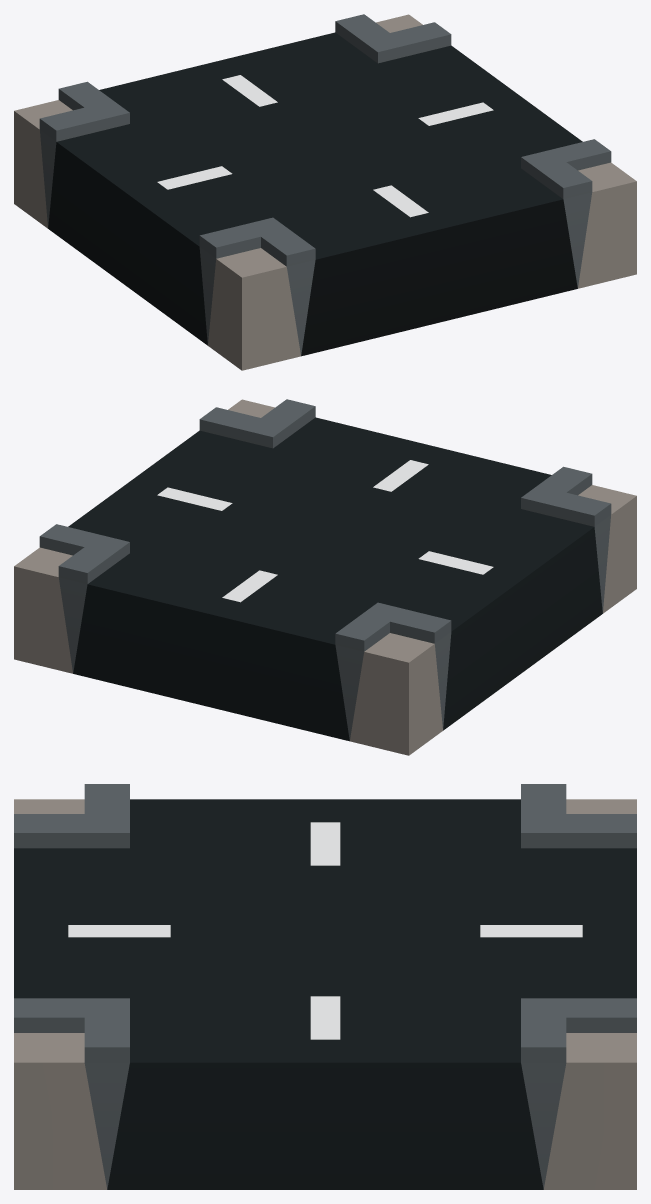
Rendered from CARRETERA 4.fbx.
3 views of the same model, one above another, from view 1: azimuth 30°, elevation 25°; view 2: azimuth 150°, elevation 25°; view 3: azimuth 270°, elevation 25° (orthographic). The views are drawn at different scales.
Parts seen in each view (by area): view 1: cuatro.001; view 2: cuatro.001; view 3: cuatro.001.
Part boxes in pixels (<box>): cuatro.001: <box>14,14,636,370</box>; cuatro.001: <box>14,399,636,755</box>; cuatro.001: <box>14,784,636,1189</box>.
Size of the model in its own units: 900 by 227 by 900.
Materials: 1 (1 with a texture image).
